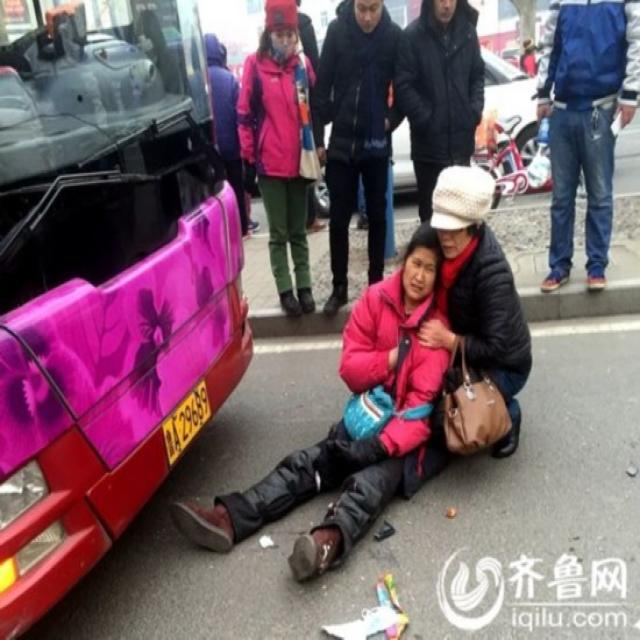fall: (186, 244, 435, 574)
